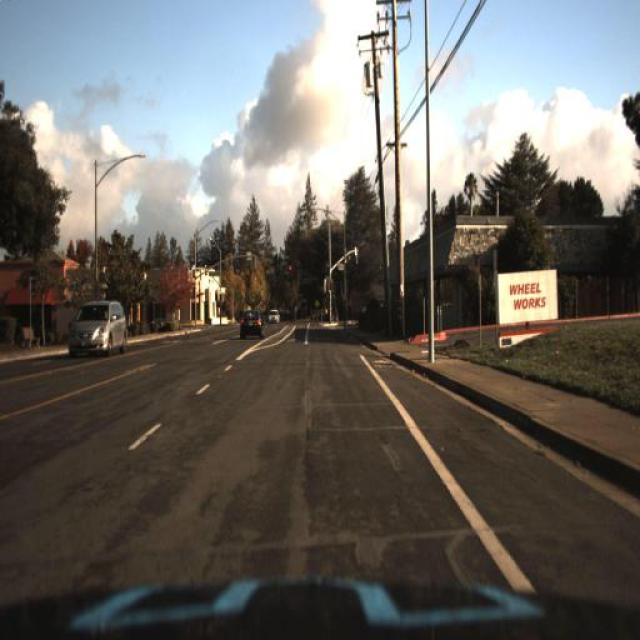car: (62, 294, 127, 362), (236, 304, 265, 340), (265, 304, 283, 328), (266, 310, 282, 326)
trafficLight-RedLeft: (286, 262, 293, 280)
